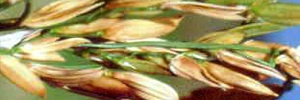RiceSheathBrownRot: (2, 53, 278, 97)
